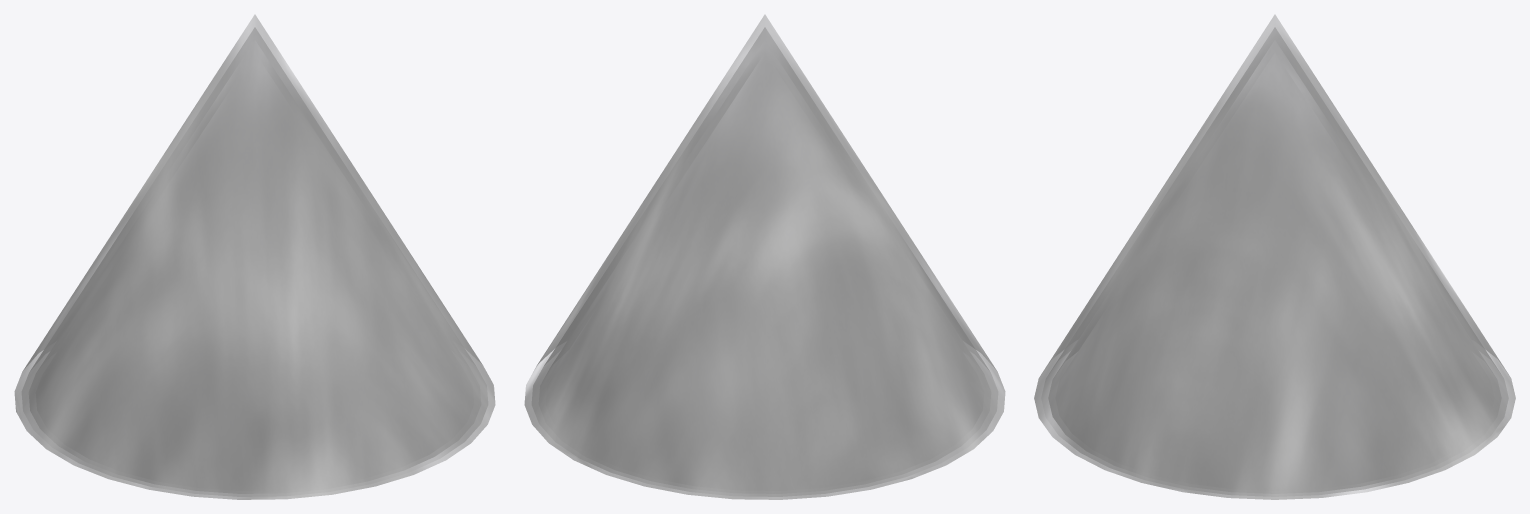
File: mist_classic.glb
3 views of the same model, side by side, from view 1: azimuth 30°, elevation 25°; view 2: azimuth 150°, elevation 25°; view 3: azimuth 270°, elevation 25° (orthographic).
Visible parts, largest first — view 1: Cone.004, Cone.003, Cone.002; view 2: Cone.004, Cone.003, Cone.002; view 3: Cone.004, Cone.003, Cone.002, Cone.001.
Part boxes in pixels (box(x1,y1,x2,y2)): Cone.004: box(14, 15, 495, 499); Cone.003: box(22, 28, 487, 495); Cone.002: box(30, 41, 452, 493); Cone.004: box(524, 15, 1005, 499); Cone.003: box(532, 28, 996, 496); Cone.002: box(551, 41, 983, 467); Cone.004: box(1034, 15, 1515, 499); Cone.003: box(1049, 28, 1507, 495); Cone.002: box(1049, 41, 1500, 490); Cone.001: box(1332, 360, 1374, 418).
Bounding box in the file's own units: 42.5 × 37.39 × 42.5.
Materials: 1 (1 with a texture image).
